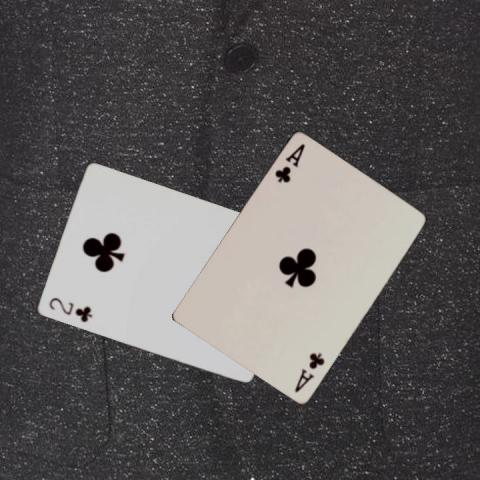2c: (46, 295, 94, 324)
Ac: (271, 141, 307, 185), (291, 350, 326, 395)
